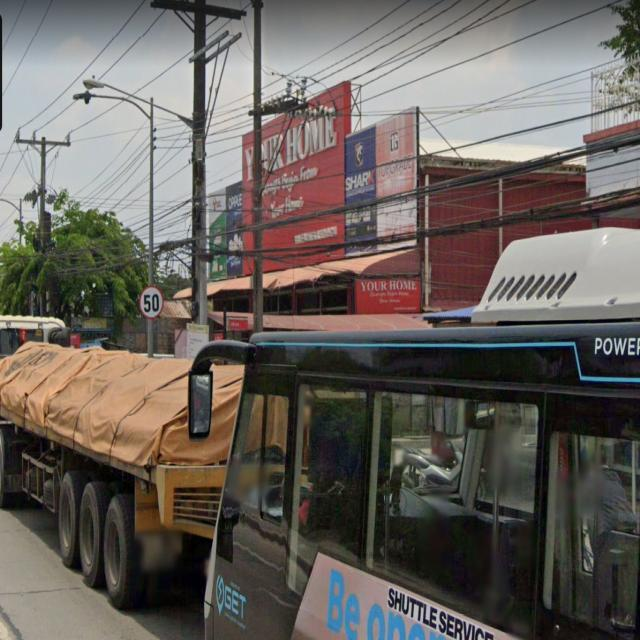50 kph: (139, 286, 164, 319)
